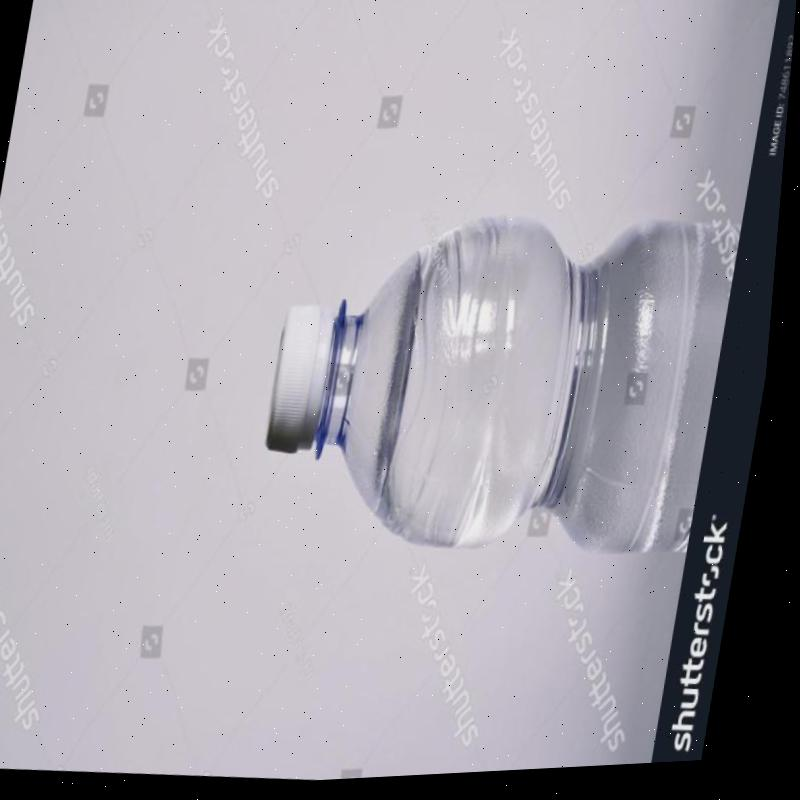botella: (254, 200, 612, 577)
